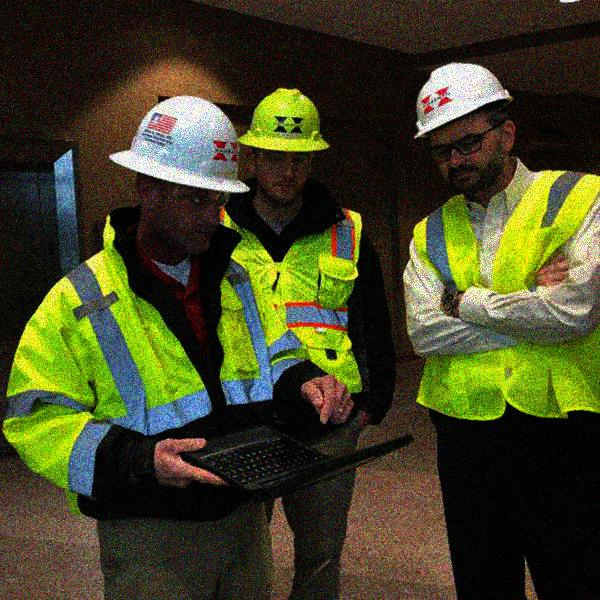helmet: (111, 93, 249, 253), (414, 61, 517, 189), (239, 87, 333, 205)
